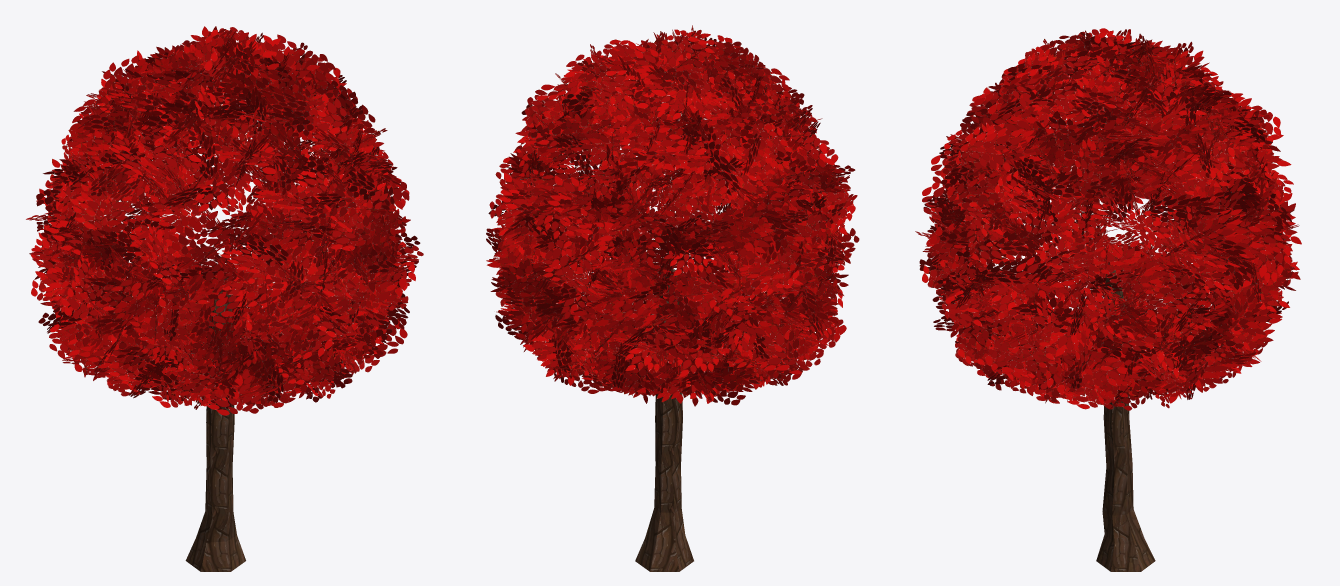
Rendered from Tree 3.fbx.
The picture shows the model from 3 angles, left to right: view 1: azimuth 30°, elevation 25°; view 2: azimuth 150°, elevation 25°; view 3: azimuth 270°, elevation 25°; orthographic projection. The views are drawn at different scales.
Visible parts, largest first — view 1: Tree 3, Tree Base 3; view 2: Tree 3, Tree Base 3; view 3: Tree 3, Tree Base 3.
Boxes of the visible parts, <box> form: Tree 3: <box>26,26,423,415</box>; Tree Base 3: <box>185,278,245,571</box>; Tree 3: <box>486,25,859,406</box>; Tree Base 3: <box>635,269,693,571</box>; Tree 3: <box>915,28,1301,410</box>; Tree Base 3: <box>1096,270,1155,571</box>.
Size of the model in its own units: 913 by 1279 by 932.
